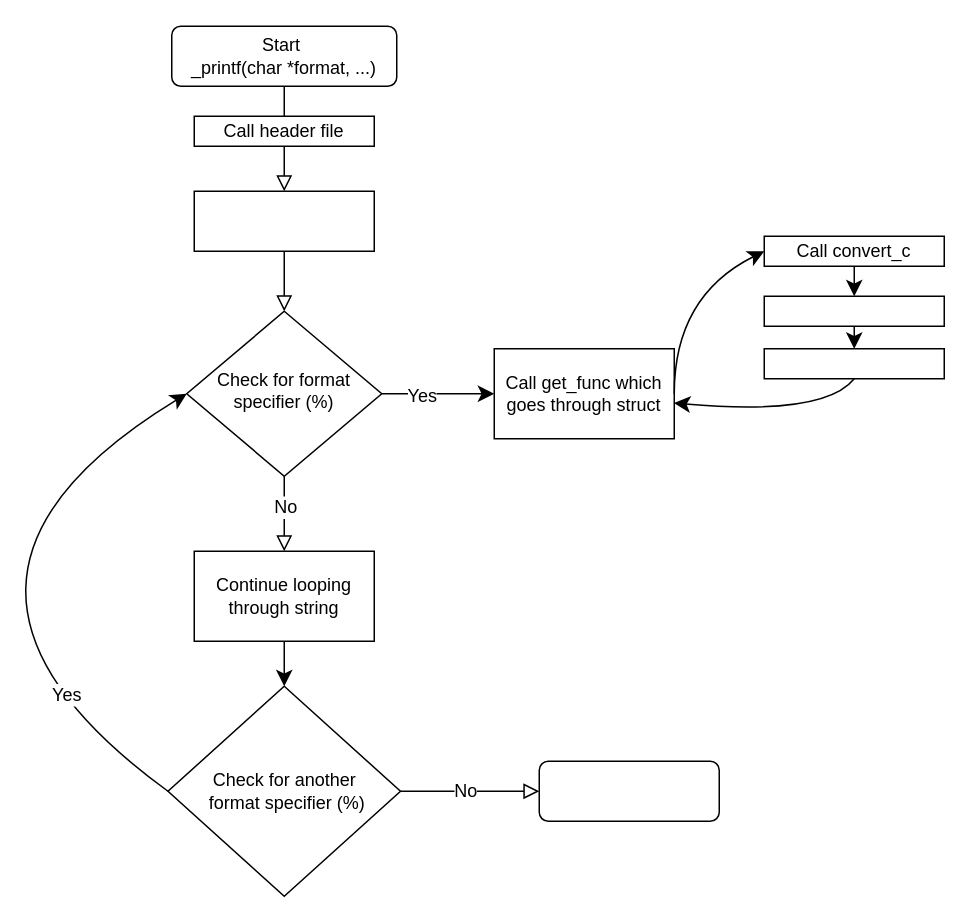
This 972x923 diagram has some shape labels left out. The shapes that lost their labels are listed below. From the top down, each one's centre as x and y in pixels, then its label:
At (283,220): "Loop through input string (format)".
At (853,310): "Call convert_s".
At (853,363): "Call convert_percent".
At (628,790): "End".
